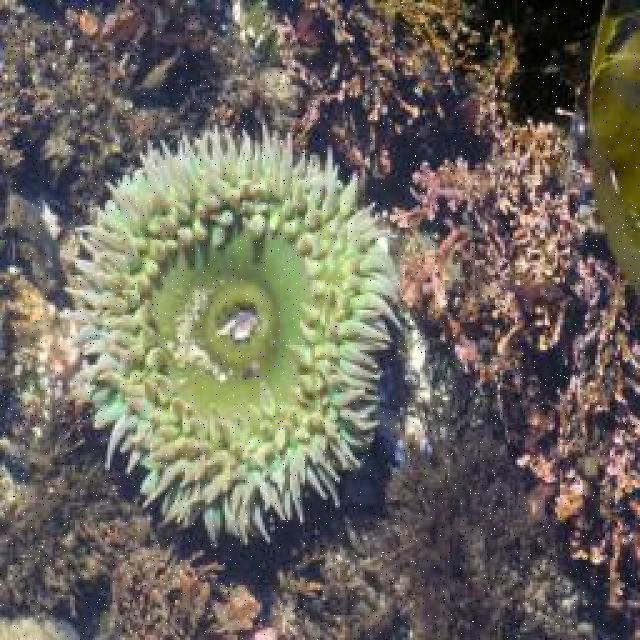aquatic plants: (592, 4, 638, 300)
reefs: (58, 124, 407, 549)
